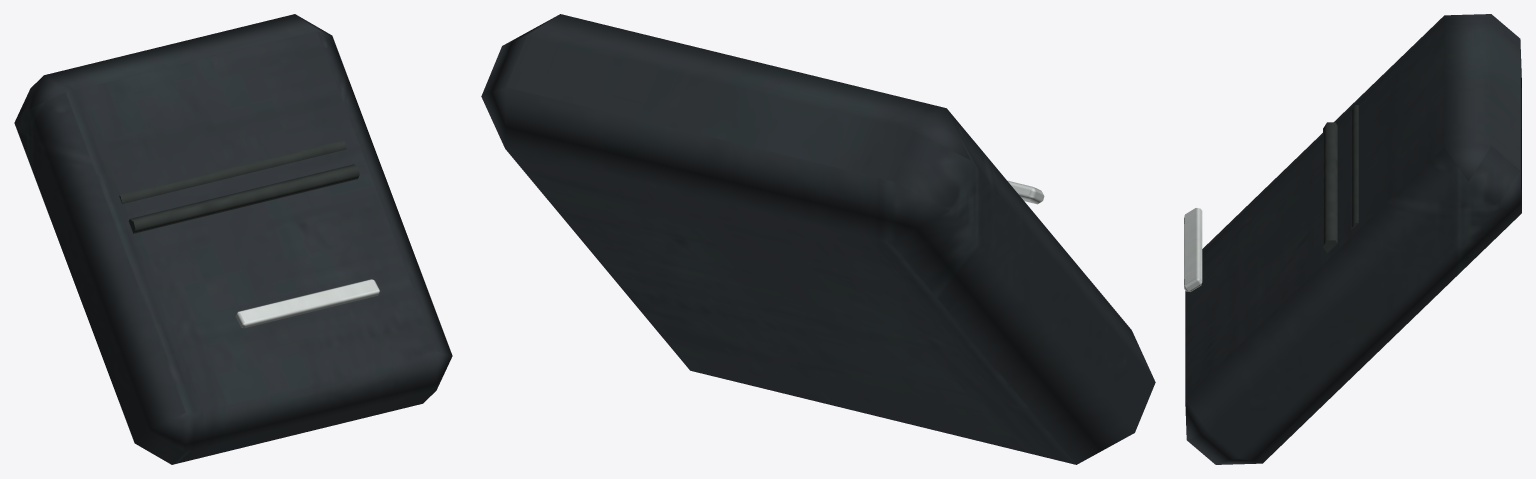
File: prop_cabin_lights.fbx
The picture shows the model from 3 angles, left to right: view 1: azimuth 30°, elevation 25°; view 2: azimuth 150°, elevation 25°; view 3: azimuth 270°, elevation 25°; orthographic projection. The views are drawn at different scales.
Visible parts, largest first — view 1: SM_prop_cabin_lights; view 2: SM_prop_cabin_lights; view 3: SM_prop_cabin_lights.
Part boxes in pixels (box(x1,y1,x2,y2)): SM_prop_cabin_lights: box(14, 14, 452, 464); SM_prop_cabin_lights: box(481, 14, 1155, 464); SM_prop_cabin_lights: box(1184, 14, 1521, 464).
Bounding box in the file's own units: 0.057 × 0.053 × 0.0508.
Materials: 3 (3 with a texture image).
